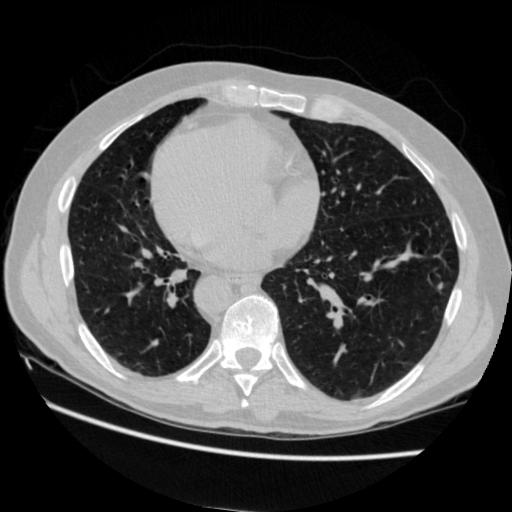nodule: (438, 281, 450, 293)
